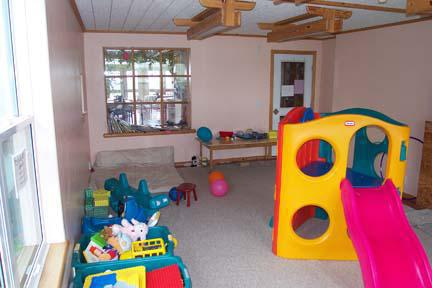Otro Obstaculo: (272, 103, 428, 284), (85, 169, 171, 226), (82, 208, 174, 242), (75, 237, 180, 265), (172, 170, 233, 213), (73, 265, 190, 287)
